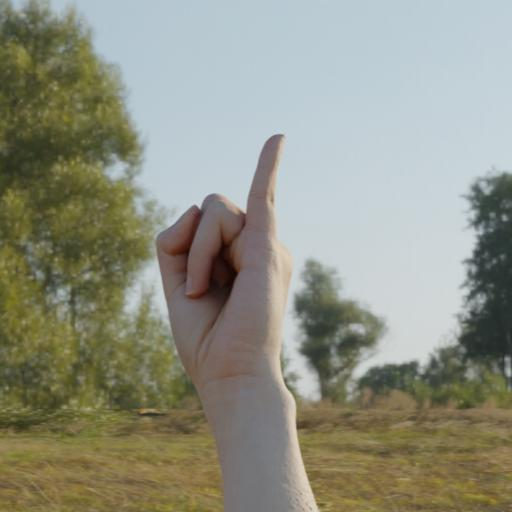I: (153, 125, 304, 413)
